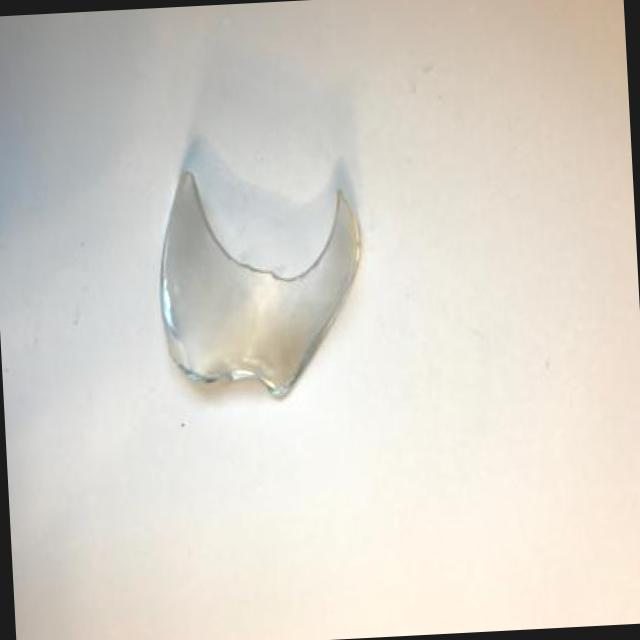chai_thuy_tinh: (160, 170, 360, 397)
